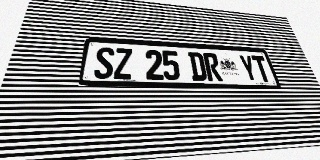2: (145, 49, 164, 80)
5: (162, 50, 181, 80)
D: (188, 52, 208, 81)
R: (203, 53, 223, 81)
S: (93, 47, 114, 79)
T: (251, 55, 273, 82)
Y: (238, 55, 259, 82)
Z: (114, 48, 132, 79)
